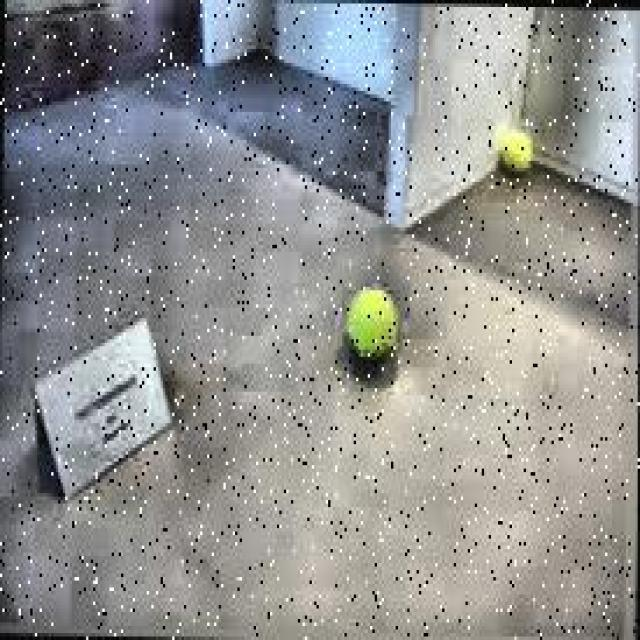tennis-ball: (341, 290, 399, 381), (492, 120, 532, 183)
